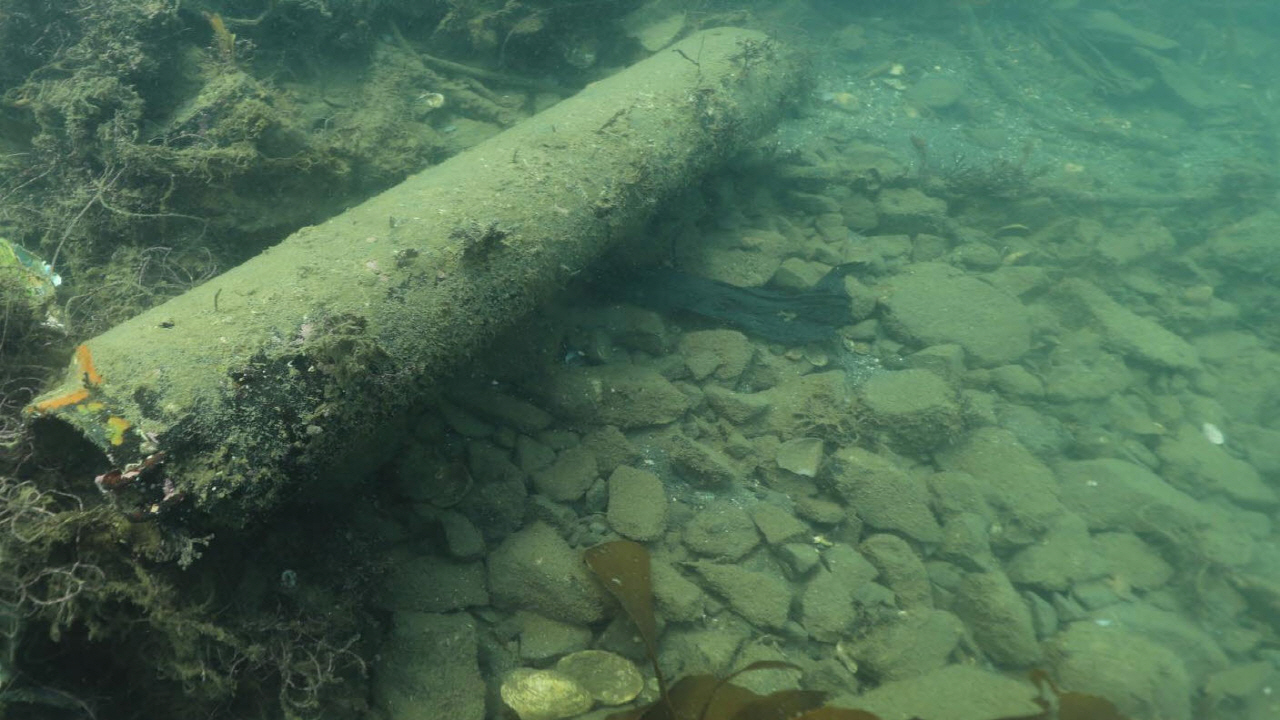eel fish trap: (17, 23, 798, 588)
